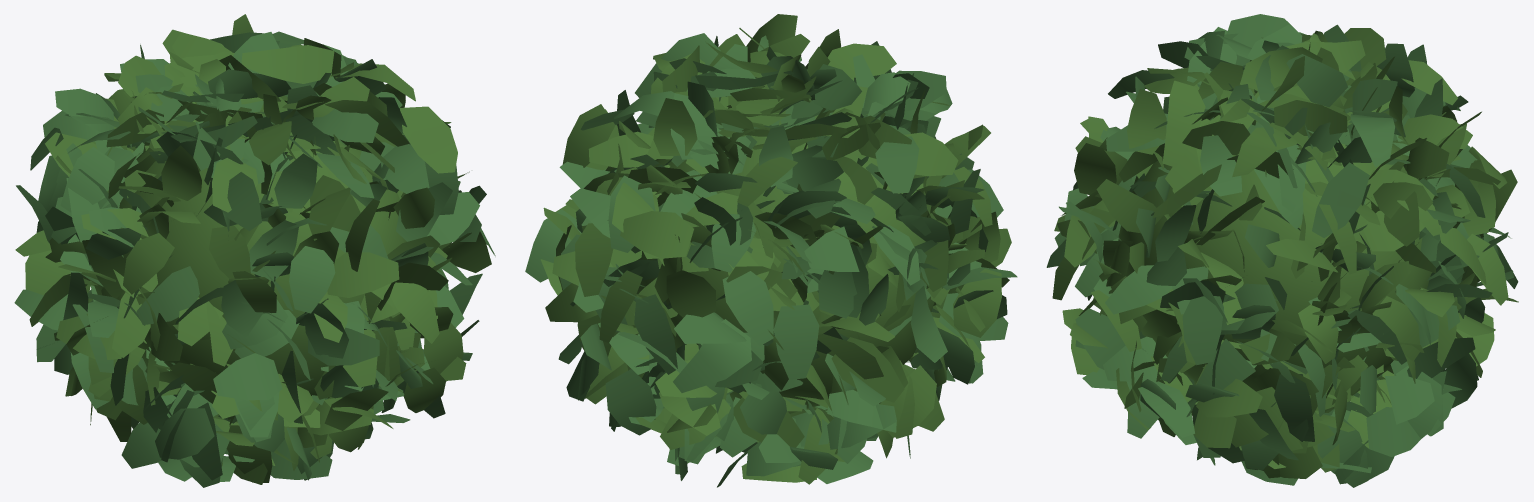
File: bush.fbx
The picture shows the model from 3 angles, left to right: view 1: azimuth 30°, elevation 25°; view 2: azimuth 150°, elevation 25°; view 3: azimuth 270°, elevation 25°; orthographic projection.
Visible parts, largest first — view 1: leaf.001; view 2: leaf.001; view 3: leaf.001.
Part boxes in pixels (bbox=[...]): leaf.001: bbox=[14, 14, 495, 487]; leaf.001: bbox=[525, 14, 1017, 487]; leaf.001: bbox=[1046, 14, 1518, 487].
Bounding box in the file's own units: 127 × 121 × 128.
